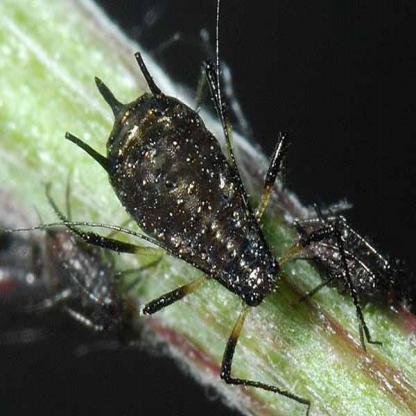uroleucon compositae: (65, 54, 285, 386)
